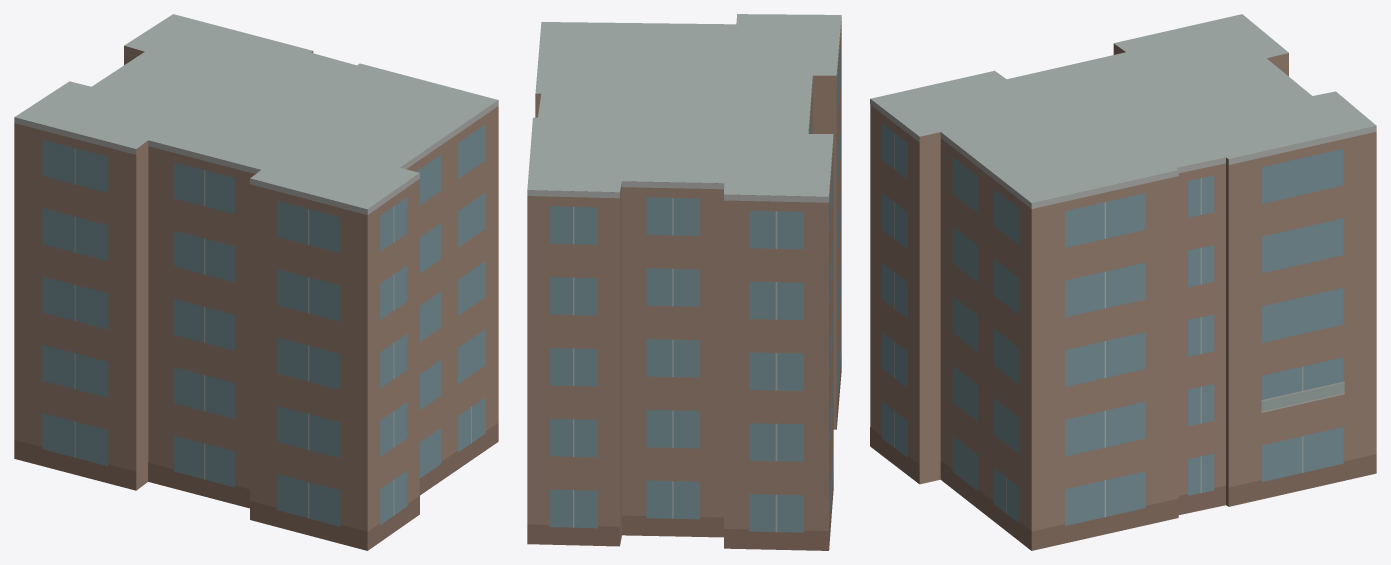
Rendered from survey-upis-33007913.glb.
The picture shows the model from 3 angles, left to right: view 1: azimuth 30°, elevation 25°; view 2: azimuth 150°, elevation 25°; view 3: azimuth 270°, elevation 25°; orthographic projection. The views are drawn at different scales.
Visible parts, largest first — view 1: survey-upis-33007913.tmp; view 2: survey-upis-33007913.tmp; view 3: survey-upis-33007913.tmp.
Part boxes in pixels (x1,y1,x2,y2): survey-upis-33007913.tmp: [14, 14, 498, 550]; survey-upis-33007913.tmp: [527, 14, 841, 550]; survey-upis-33007913.tmp: [870, 14, 1376, 550].
Bounding box in the file's own units: 16.7 × 14.3 × 18.89.
